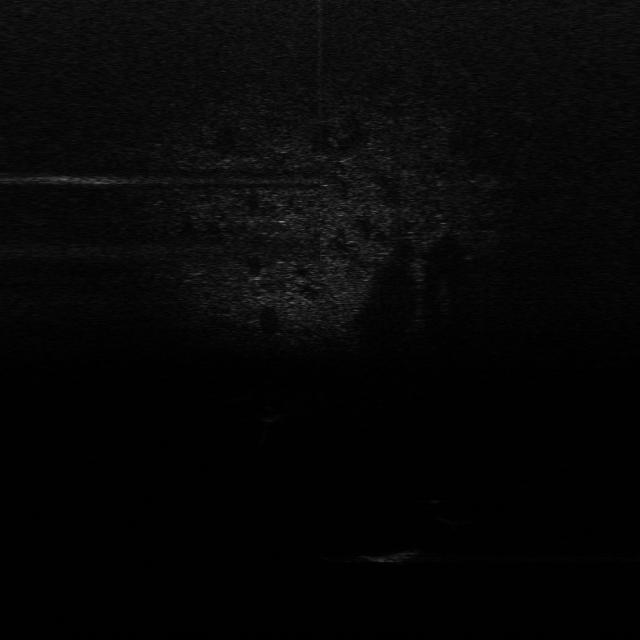ball: (254, 403, 286, 422)
metal bucket: (349, 545, 422, 564)
tyre: (426, 495, 482, 527)
